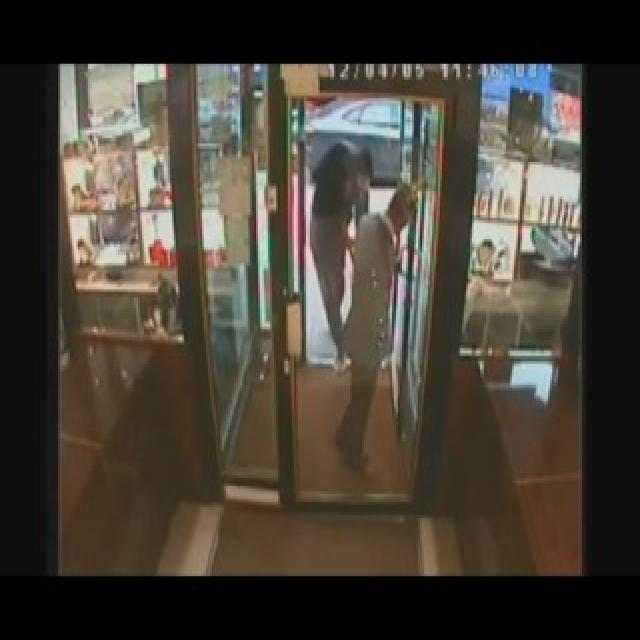burglary: (304, 132, 380, 386)
